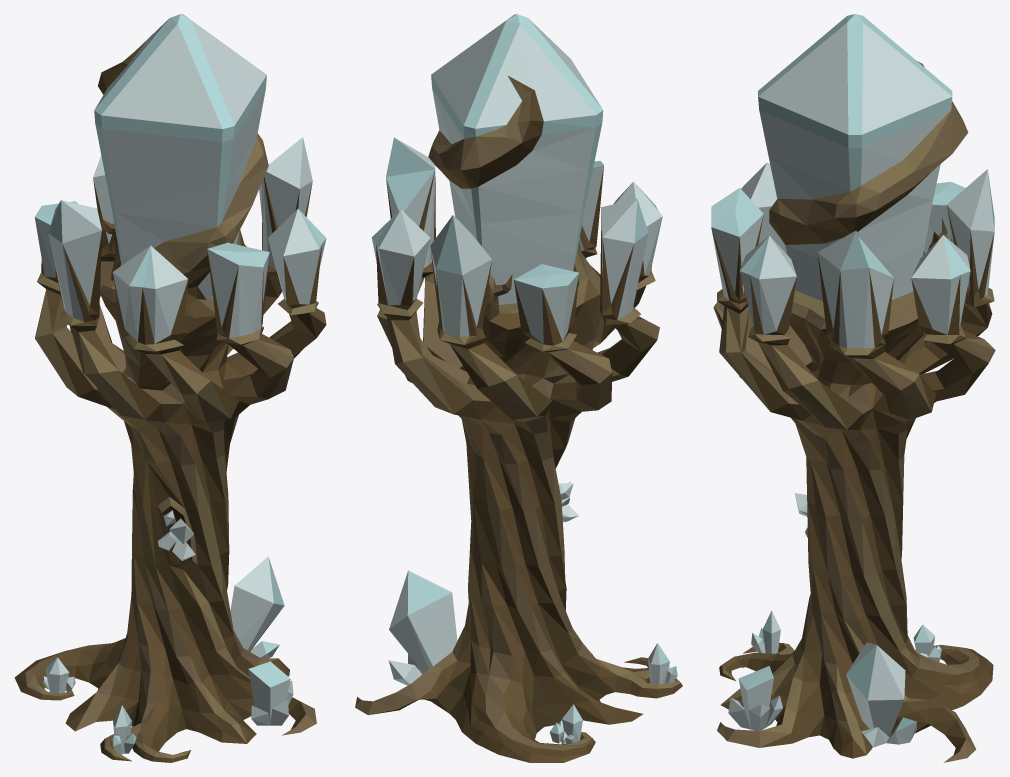
File: crystal-tree.gltf
3 views of the same model, side by side, from view 1: azimuth 30°, elevation 25°; view 2: azimuth 150°, elevation 25°; view 3: azimuth 270°, elevation 25° (orthographic).
Bounding box in the file's own units: 256 × 667 × 249.
Materials: 1 (1 with a texture image).
